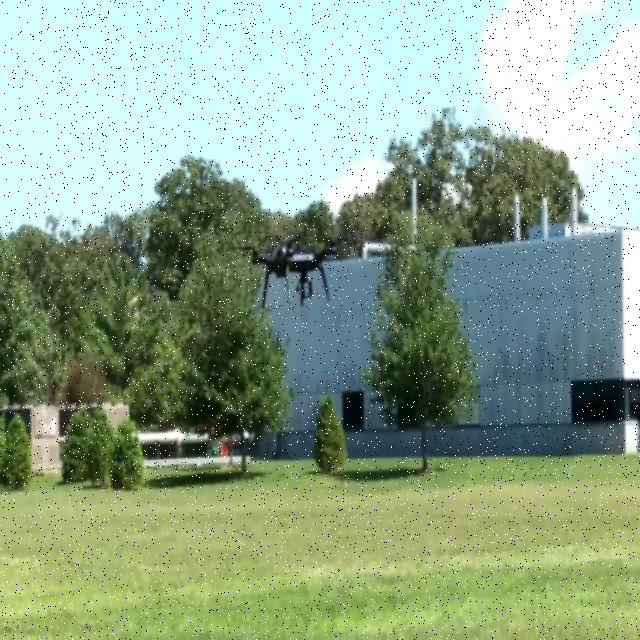UAV: (234, 237, 348, 310)
